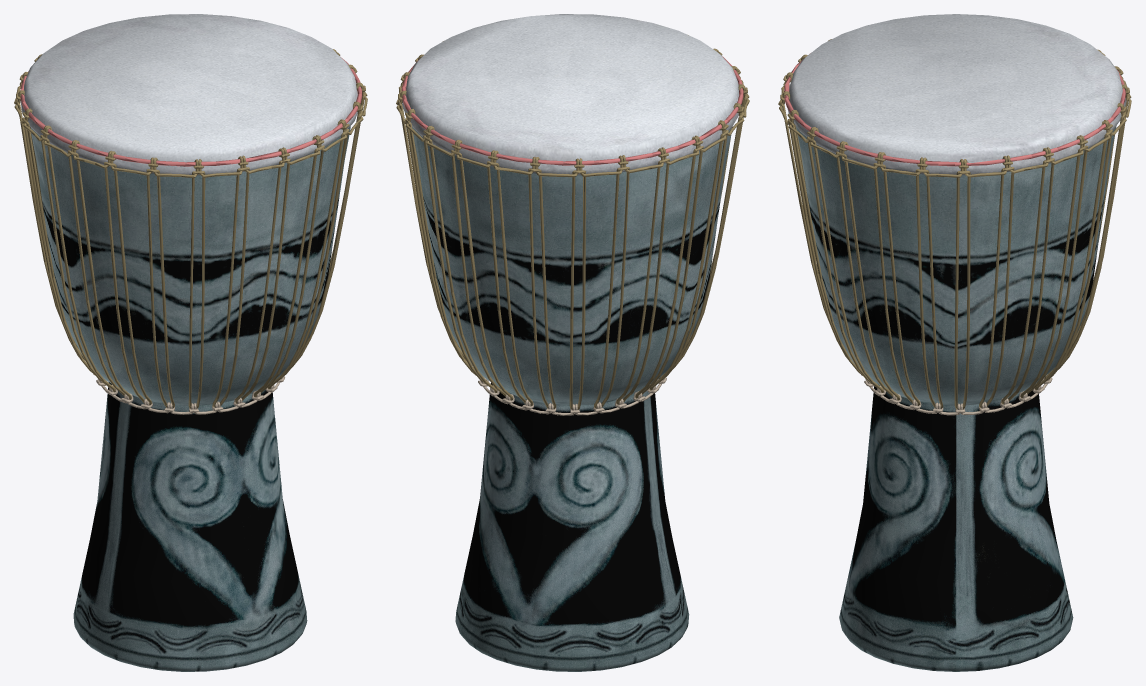
The picture shows the model from 3 angles, left to right: view 1: azimuth 30°, elevation 25°; view 2: azimuth 150°, elevation 25°; view 3: azimuth 270°, elevation 25°; orthographic projection.
Visible parts, largest first — view 1: Mesh31.001, Mesh29.001, Mesh28.001, Mesh30.001; view 2: Mesh31.001, Mesh29.001, Mesh28.001, Mesh30.001; view 3: Mesh31.001, Mesh29.001, Mesh28.001, Mesh30.001.
Part boxes in pixels (x1,y1,x2,y2): Mesh31.001: [21, 14, 357, 671]; Mesh29.001: [14, 49, 367, 408]; Mesh28.001: [20, 57, 362, 166]; Mesh30.001: [93, 374, 284, 414]; Mesh31.001: [402, 14, 741, 671]; Mesh29.001: [396, 35, 749, 409]; Mesh28.001: [401, 56, 743, 165]; Mesh30.001: [475, 375, 666, 415]; Mesh31.001: [787, 14, 1126, 671]; Mesh29.001: [778, 39, 1131, 409]; Mesh28.001: [784, 53, 1125, 166]; Mesh30.001: [861, 374, 1052, 415].
Bounding box in the file's own units: 46643 × 79053 × 46671.
Materials: 4 (1 with a texture image).
